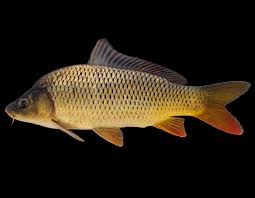carp: (5, 38, 251, 148)
